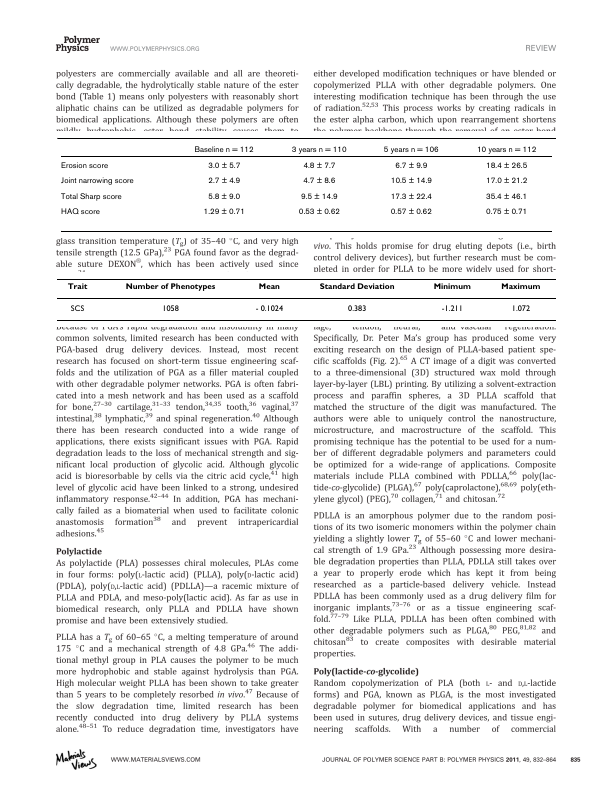borderless: (56, 136, 552, 231), (56, 277, 556, 320)
cell: (124, 282, 216, 291), (59, 177, 134, 187), (318, 282, 395, 291), (59, 192, 122, 202), (475, 145, 537, 155), (193, 145, 254, 155), (290, 145, 347, 155), (382, 145, 439, 155), (59, 161, 108, 171), (484, 161, 528, 171), (484, 177, 528, 187), (484, 192, 528, 202), (484, 208, 528, 218), (389, 177, 432, 187), (389, 192, 432, 202), (202, 208, 245, 218), (297, 208, 340, 218), (389, 208, 432, 218), (59, 208, 100, 218), (299, 192, 338, 202), (500, 282, 541, 291), (432, 282, 471, 291), (207, 161, 241, 171), (302, 161, 336, 171), (394, 161, 428, 171), (207, 177, 241, 187), (302, 177, 336, 187), (207, 192, 241, 202), (254, 304, 284, 312), (257, 282, 280, 291), (66, 282, 88, 291), (440, 304, 463, 312), (510, 304, 531, 312), (347, 304, 367, 312), (161, 304, 179, 312), (69, 304, 85, 312)
